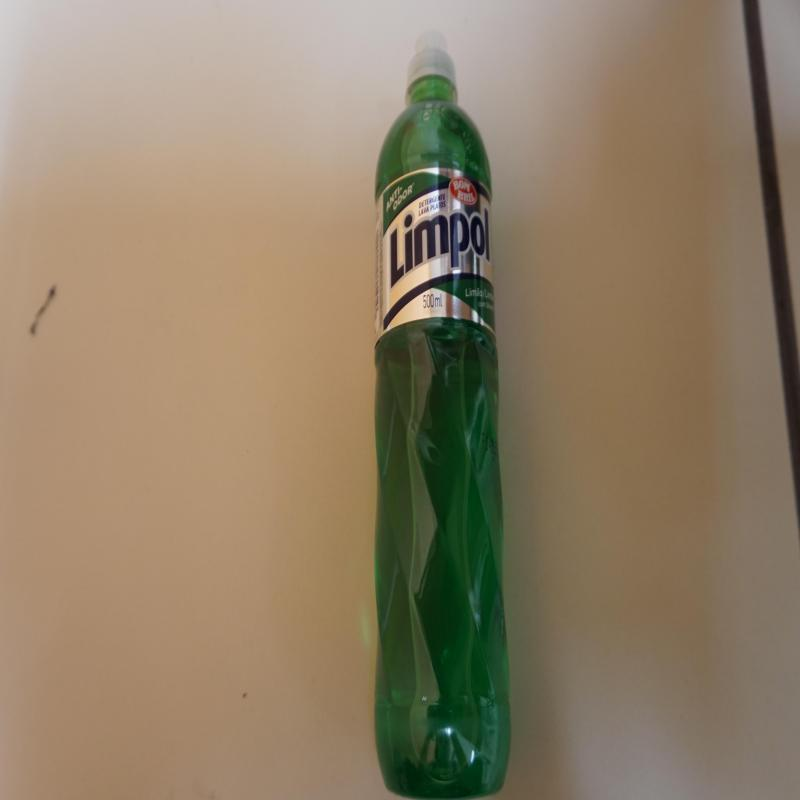Cleaner: (371, 30, 512, 800)
